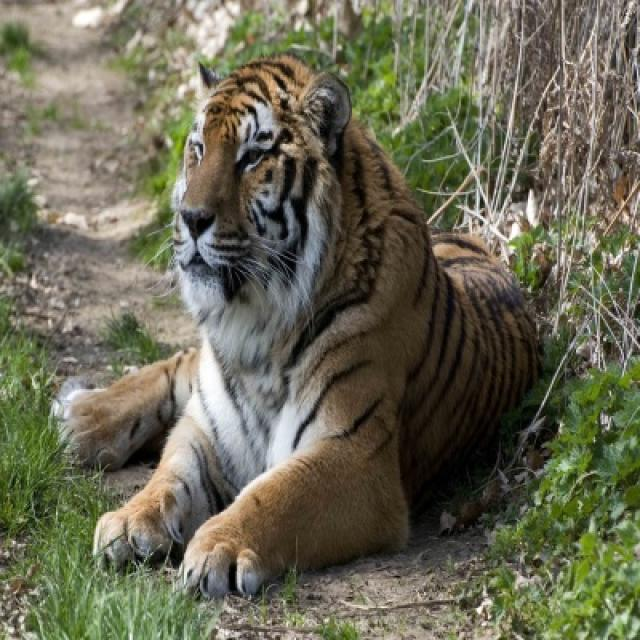Tiger: (40, 54, 537, 603)
